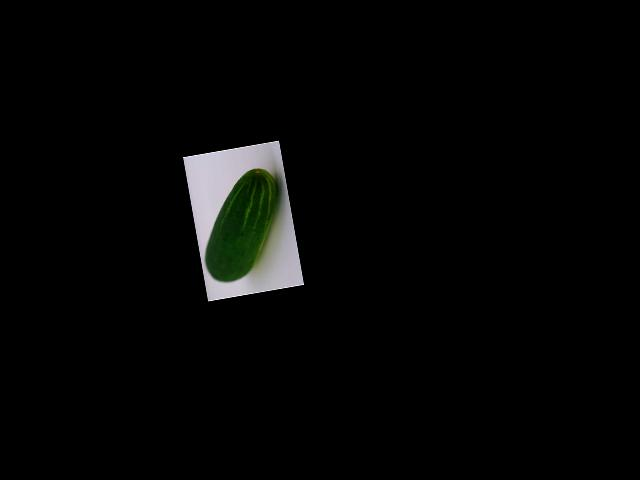cucumber: (191, 166, 291, 285)
